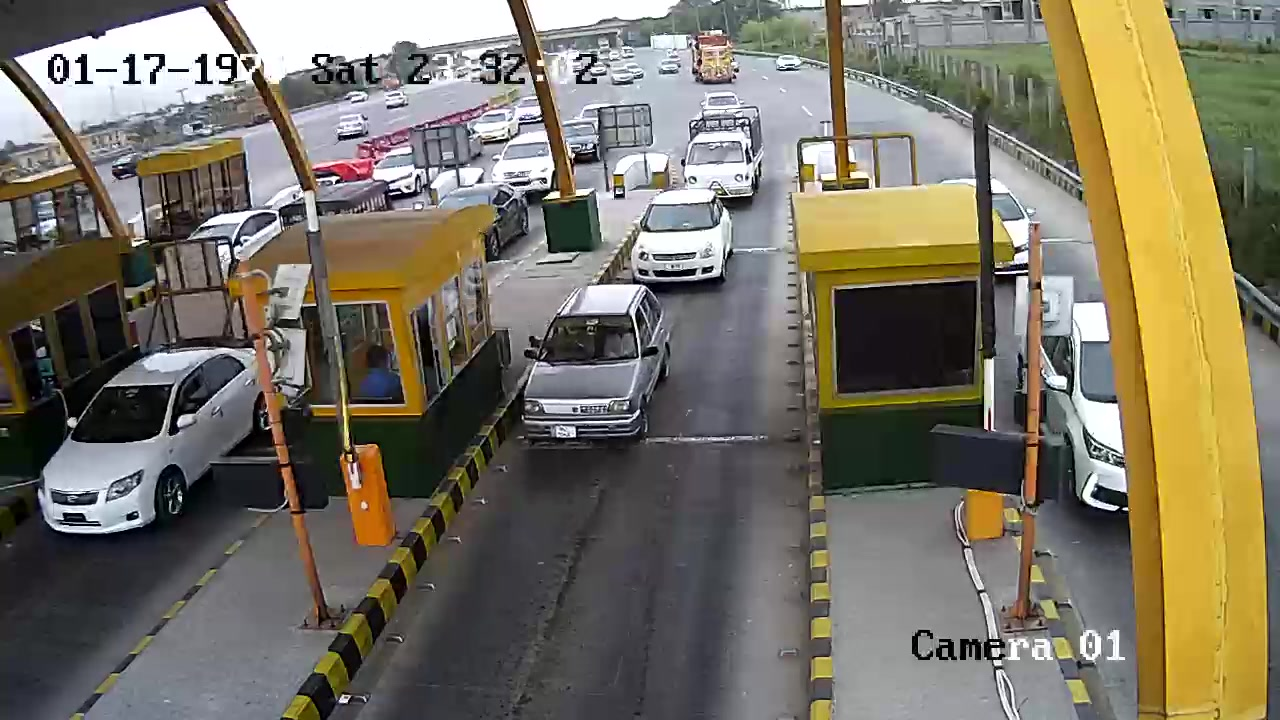F1: (510, 276, 682, 459)
